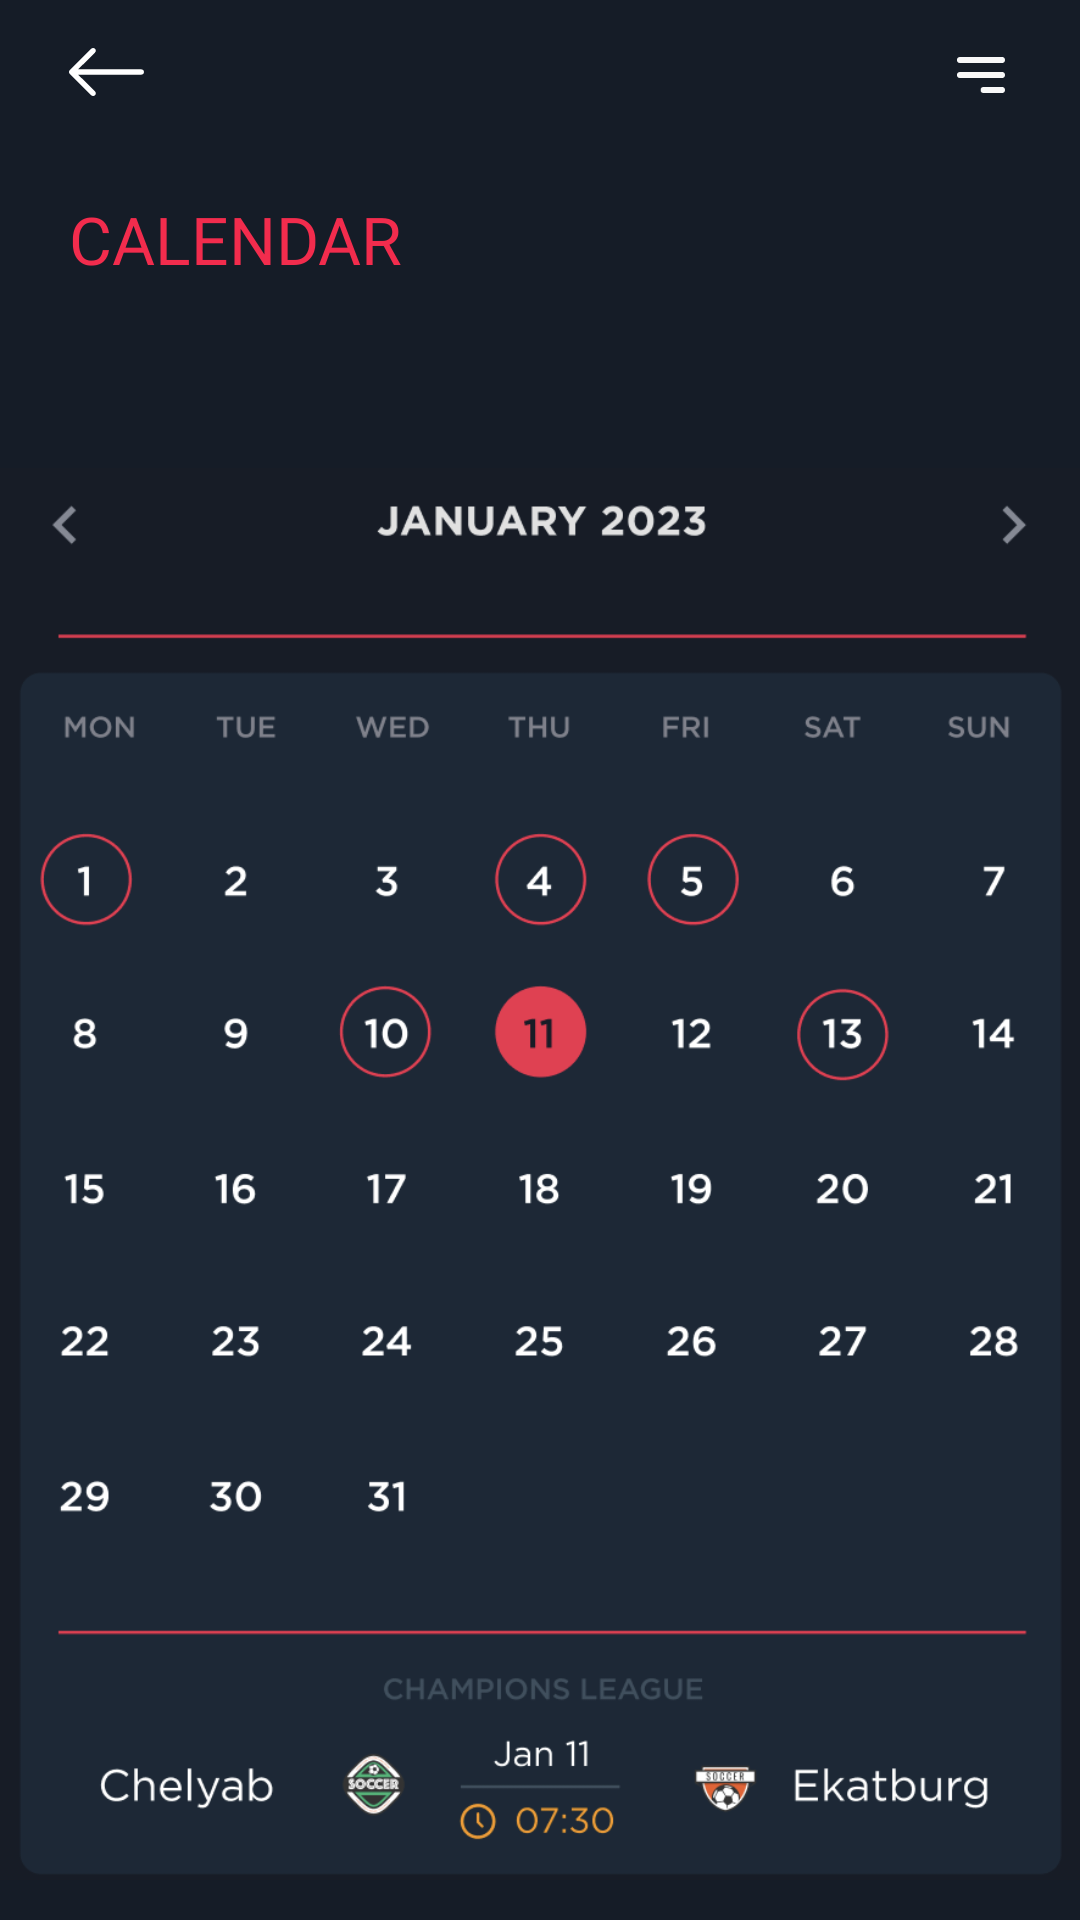

Screen size 1080×1920. Icon name, then its box in pixels as box(x1, y1, x2, y2):
back: box(69, 48, 144, 96)
